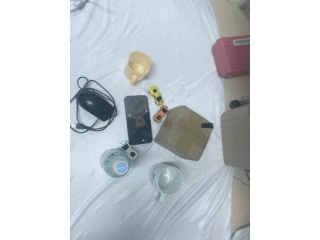bottle: (99, 147, 139, 178)
box: (156, 105, 214, 161)
cup: (150, 164, 184, 205), (124, 50, 152, 85)
mouse: (75, 77, 117, 123)
phone: (124, 95, 153, 146)
toy_car: (119, 141, 139, 162), (148, 85, 164, 106), (153, 106, 169, 123)
